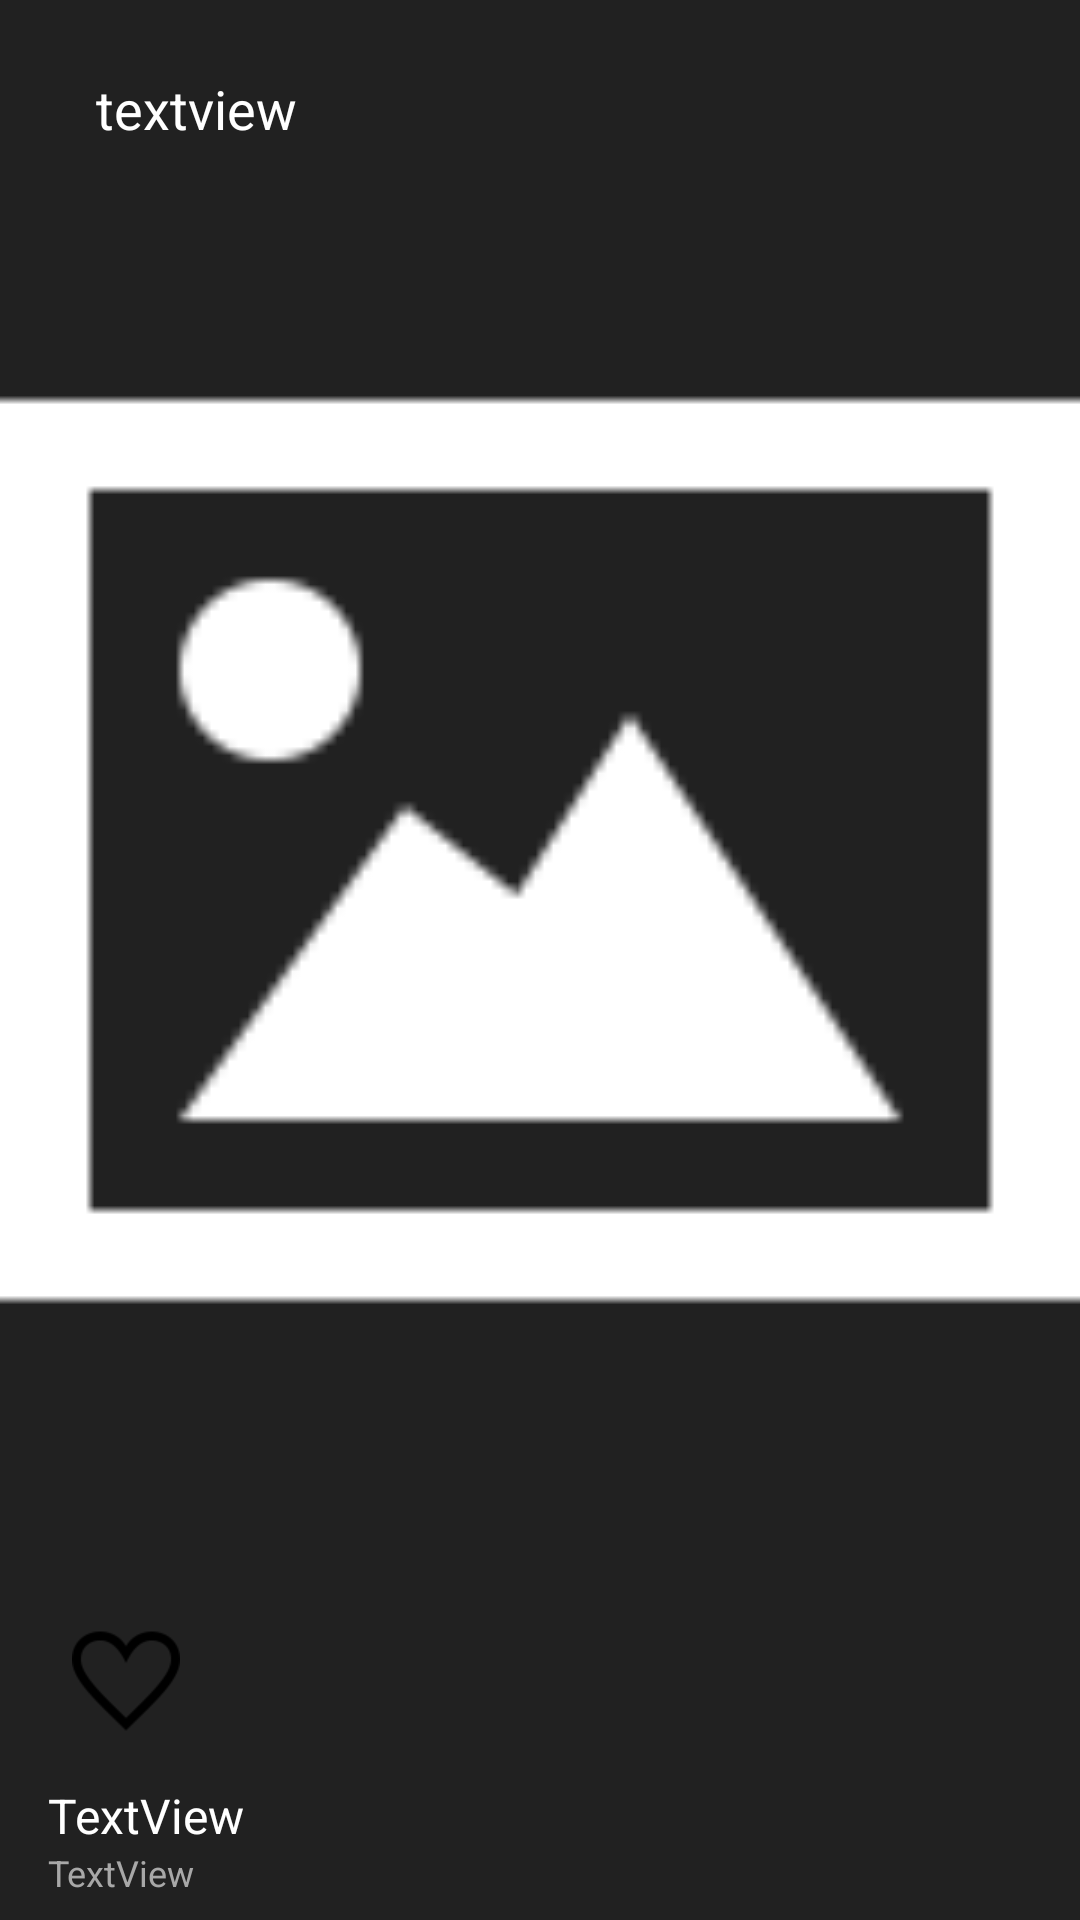

Where icons sit on this 1080w x 1920h app screen, as (x1, y1, x2, y2):
heart empty: (72, 1632, 180, 1729)
